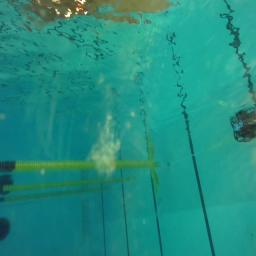front: (229, 107, 256, 143)
